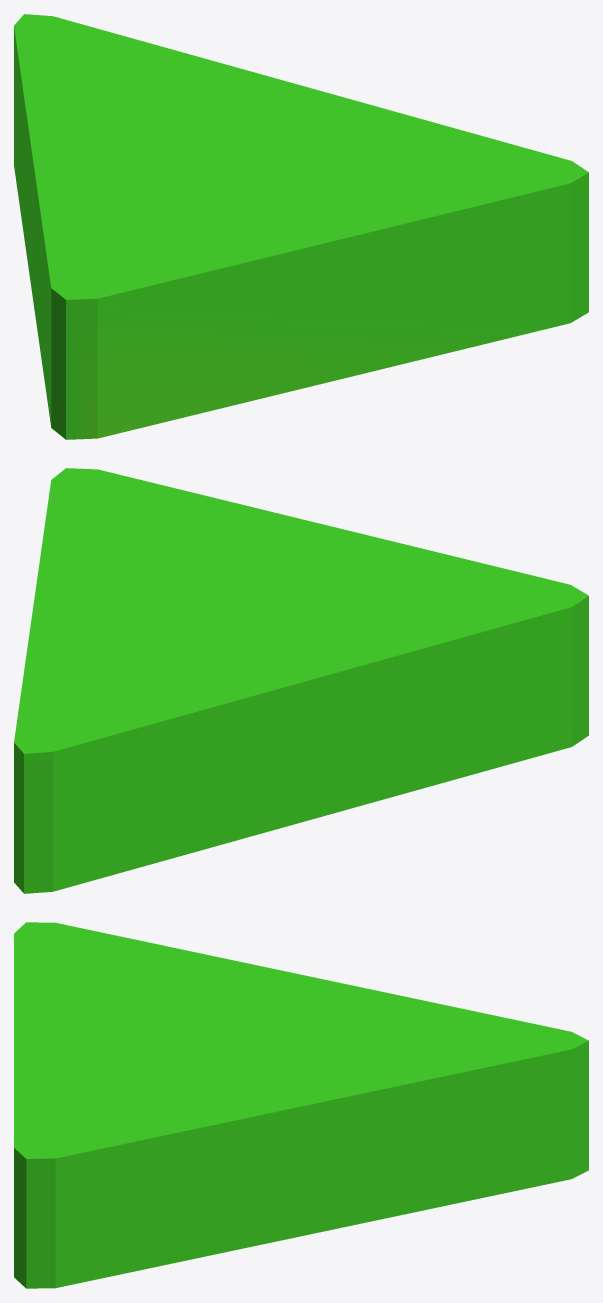
File: TriangleBullet.fbx
The picture shows the model from 3 angles, top to bottom: view 1: azimuth 30°, elevation 25°; view 2: azimuth 150°, elevation 25°; view 3: azimuth 270°, elevation 25°; orthographic projection. The views are drawn at different scales.
Parts seen in each view (by area): view 1: TriangleBullet; view 2: TriangleBullet; view 3: TriangleBullet.
Boxes of the visible parts, bbox=[...] form: TriangleBullet: bbox=[14, 14, 588, 439]; TriangleBullet: bbox=[14, 468, 588, 893]; TriangleBullet: bbox=[14, 922, 588, 1288].
Size of the model in its own units: 70.62 by 18.05 by 72.52.
